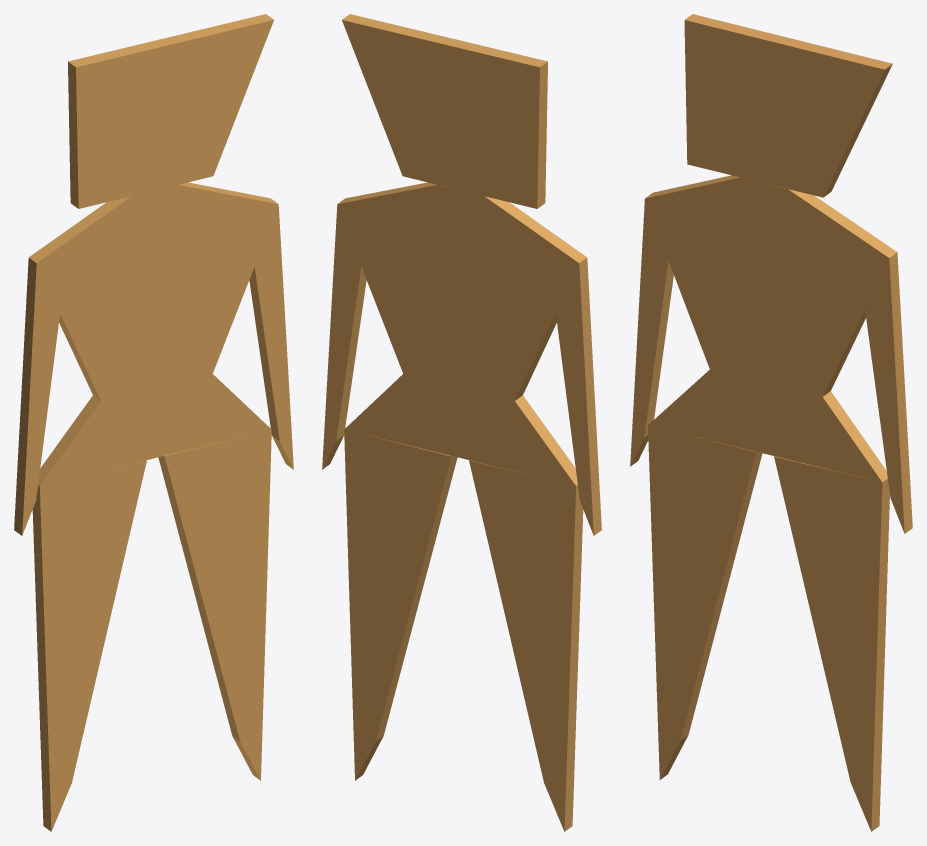
File: Female.fbx
3 renders of one model, left to right at view 1: azimuth 30°, elevation 25°; view 2: azimuth 150°, elevation 25°; view 3: azimuth 330°, elevation 25°, orthographic.
Parts seen in each view (by area): view 1: Torso, Head, Right Leg, Left Leg, Right Hand, Left Hand; view 2: Torso, Head, Right Leg, Left Leg, Right Hand, Left Hand; view 3: Torso, Head, Left Leg, Right Leg, Left Hand, Right Hand.
Part boxes in pixels (bbox=[...]): Torso: bbox=[29, 182, 278, 485]; Head: bbox=[68, 14, 273, 208]; Right Leg: bbox=[32, 460, 146, 831]; Left Leg: bbox=[158, 429, 271, 780]; Right Hand: bbox=[14, 258, 59, 535]; Left Hand: bbox=[249, 205, 293, 469]; Torso: bbox=[337, 182, 586, 485]; Head: bbox=[342, 14, 547, 208]; Right Leg: bbox=[469, 460, 583, 831]; Left Leg: bbox=[344, 429, 457, 780]; Right Hand: bbox=[556, 258, 601, 535]; Left Hand: bbox=[322, 205, 366, 469]; Torso: bbox=[645, 175, 897, 482]; Head: bbox=[684, 14, 892, 197]; Left Leg: bbox=[774, 456, 889, 831]; Right Leg: bbox=[648, 425, 762, 779]; Left Hand: bbox=[865, 253, 912, 533]; Right Hand: bbox=[630, 199, 673, 466].
Size of the model in its own units: 39.85 by 106 by 2.05.
